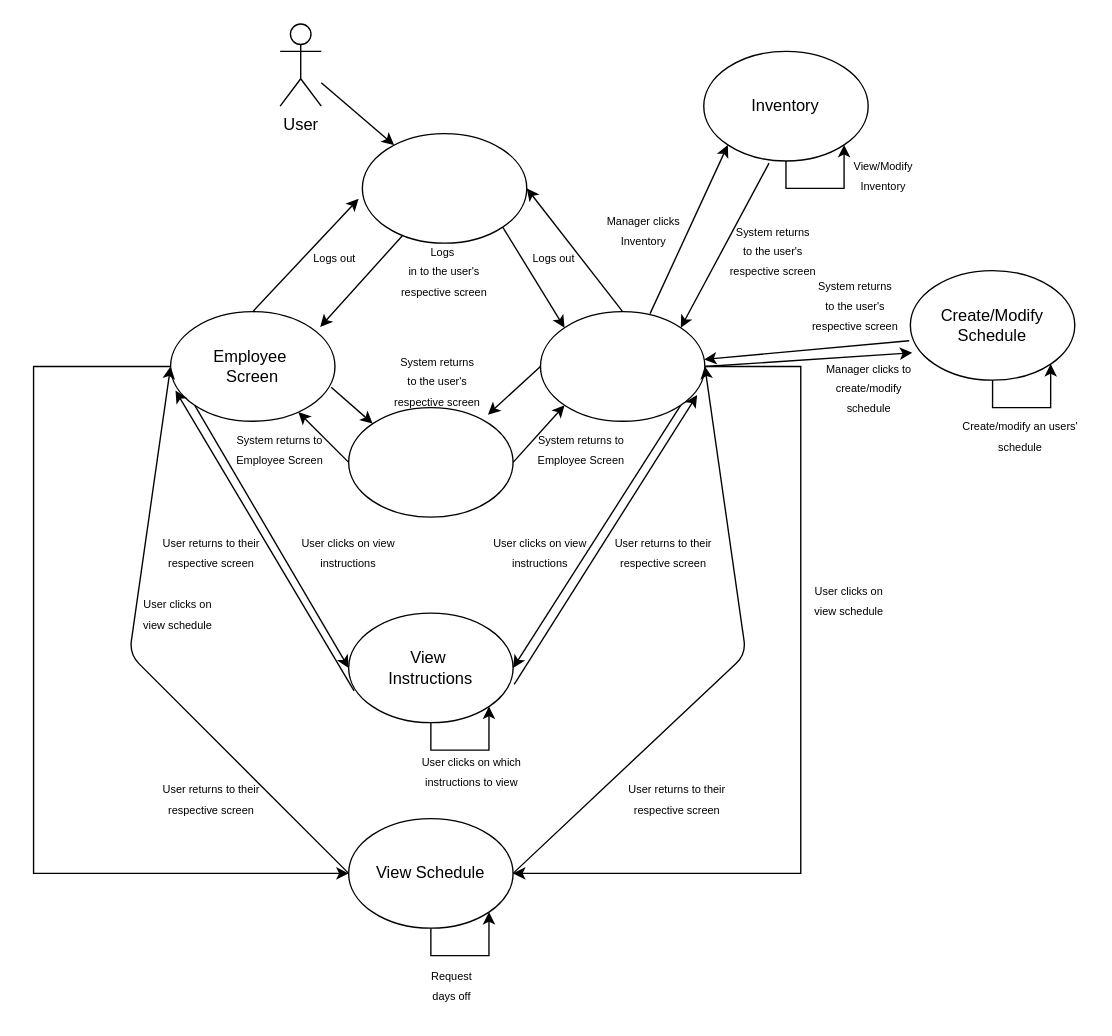
Image size: 1112x1036. Some labels were removed from this diagram. Each missing label, with the centre of its shape:
"Clock in/ Clock Out" goes at [430,461].
"Log in" goes at [444,187].
"Management Screen" goes at [622,365].
